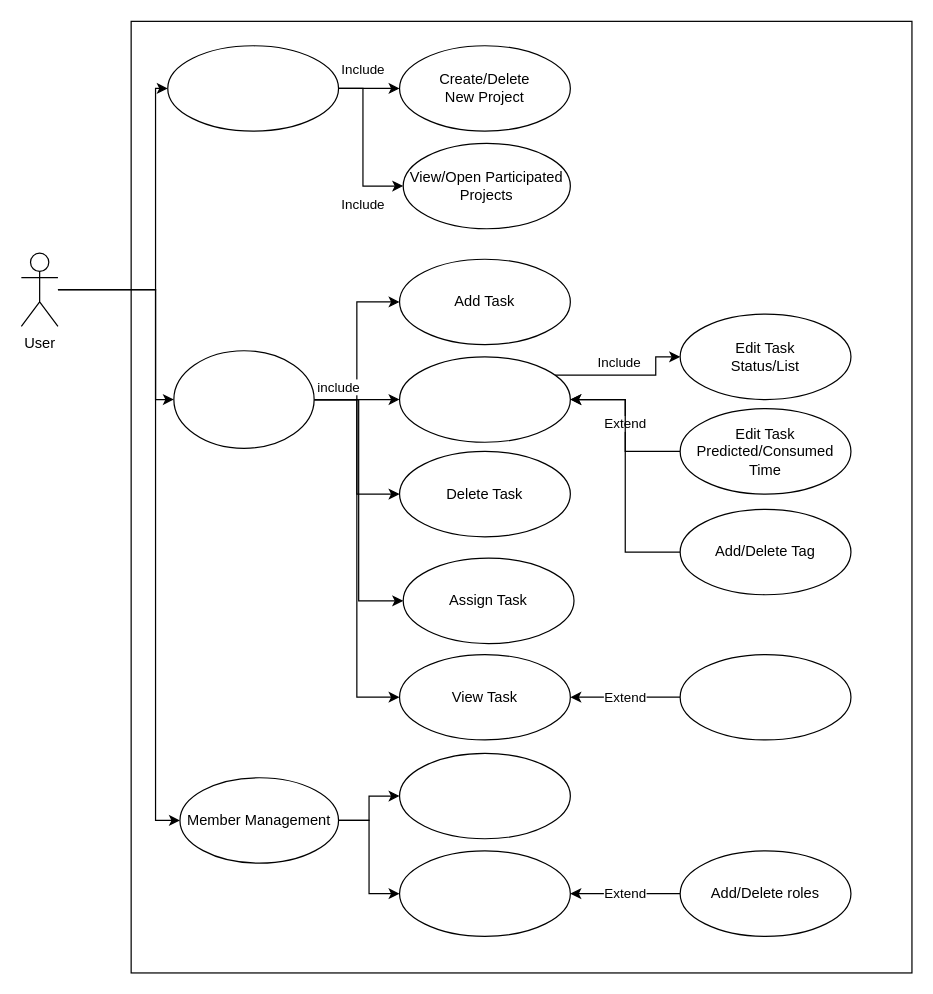
Image size: 933x994. Some labels were removed from this diagram. The shapes that lost their labels are listed below. From the top down, each one's centre as x and y in pixels, then its label:
At point (253, 88): "Browse Participated Projects".
At point (243, 399): "Task Management".
At point (484, 399): "Edit Task".
At point (765, 696): "View Task Details".
At point (484, 795): "Add/Delete Member".
At point (484, 893): "Manage member roles".
